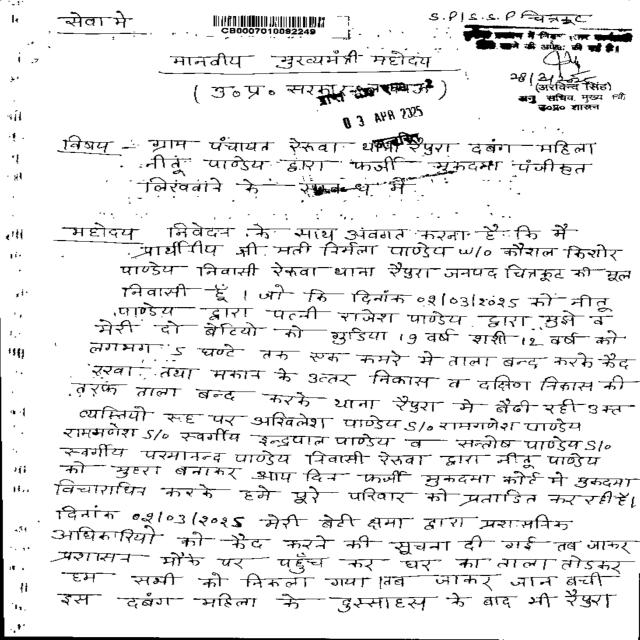antritgovtstamp: (312, 78, 438, 149)
barcode: (210, 12, 333, 37)
signnamestamp: (504, 49, 634, 114)
